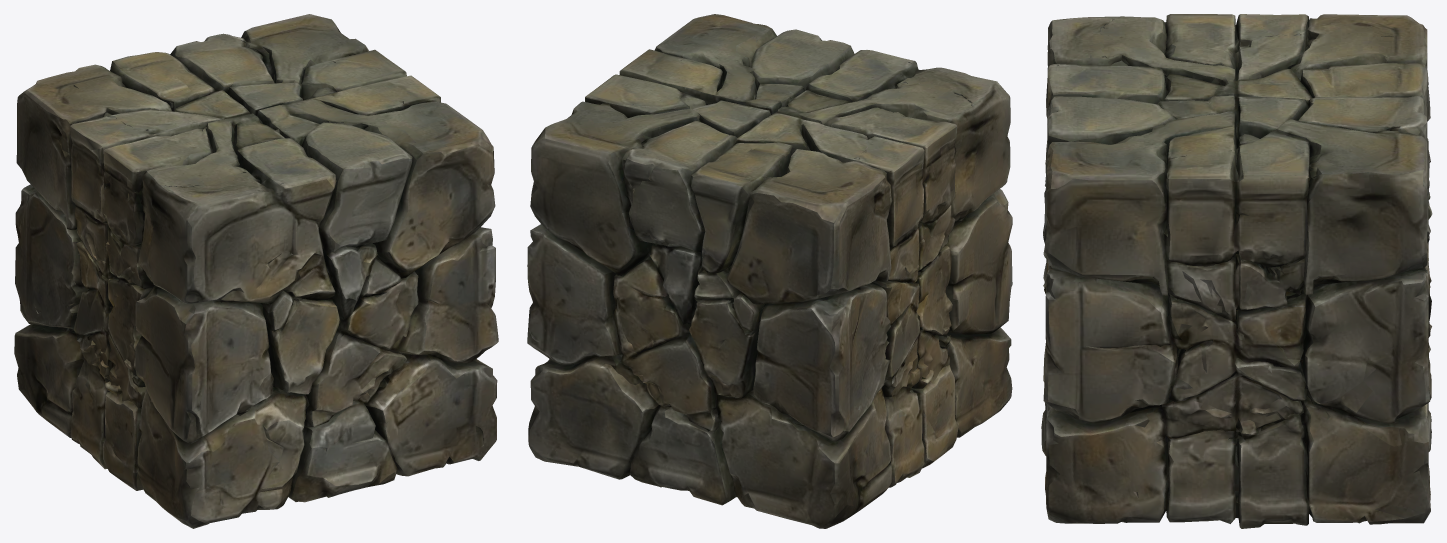
File: obj_crack_slab.glb
3 views of the same model, side by side, from view 1: azimuth 30°, elevation 25°; view 2: azimuth 150°, elevation 25°; view 3: azimuth 270°, elevation 25° (orthographic). The views are drawn at different scales.
Visible parts, largest first — view 1: world; view 2: world; view 3: world.
Boxes of the visible parts, box(x1,y1,x2,y2) form: world: box(14, 14, 498, 528); world: box(527, 14, 1012, 528); world: box(1041, 14, 1432, 528).
Size of the model in its own units: 0.5 by 0.5017 by 0.4983.
1 material, 1 textured.
